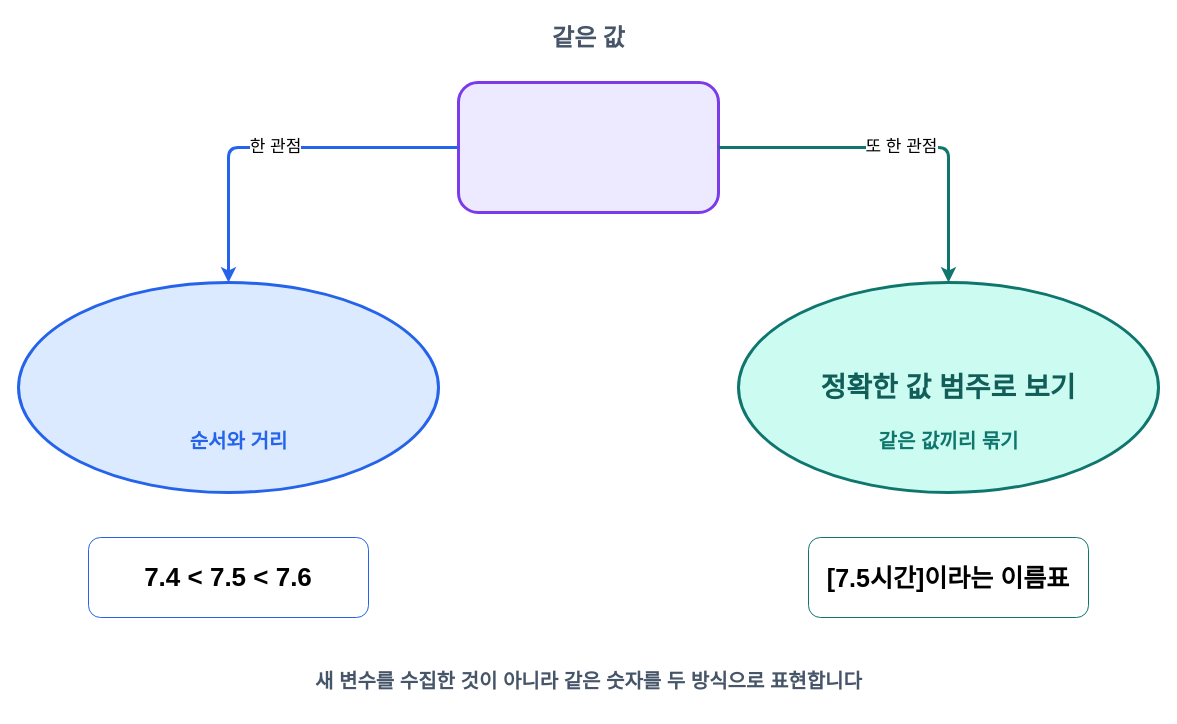
This 1177x724 diagram has some shape labels left out. The shapes that lost their labels are listed below. From the top down, each one's box as (x1, y1, x2, y2) in pixels, then its label:
(456, 80, 720, 214): 7.5시간
(16, 280, 440, 494): 연속적인 크기로 보기
